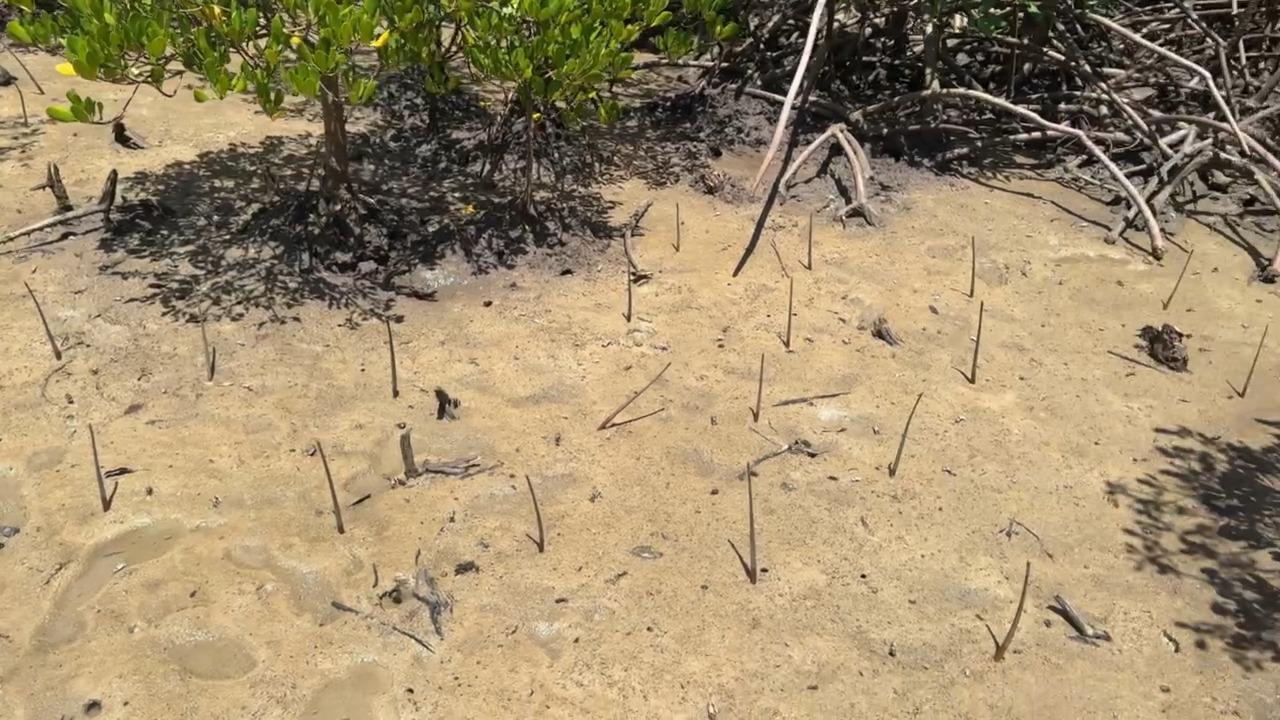Tree: (599, 361, 670, 430), (995, 561, 1032, 661), (23, 281, 63, 361), (889, 393, 924, 476), (317, 443, 344, 534), (0, 42, 45, 95), (1241, 324, 1270, 397), (192, 279, 212, 381), (1164, 247, 1196, 309), (88, 424, 109, 513), (745, 460, 758, 583), (526, 474, 546, 553), (971, 302, 985, 383), (385, 319, 399, 396), (753, 354, 766, 421), (12, 82, 29, 125), (786, 277, 796, 347), (623, 261, 633, 322), (967, 236, 975, 299), (807, 214, 813, 269), (675, 201, 681, 250)
